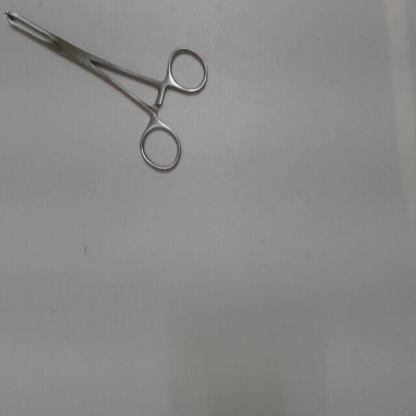Allis Tissue Forceps: (2, 9, 214, 184)
